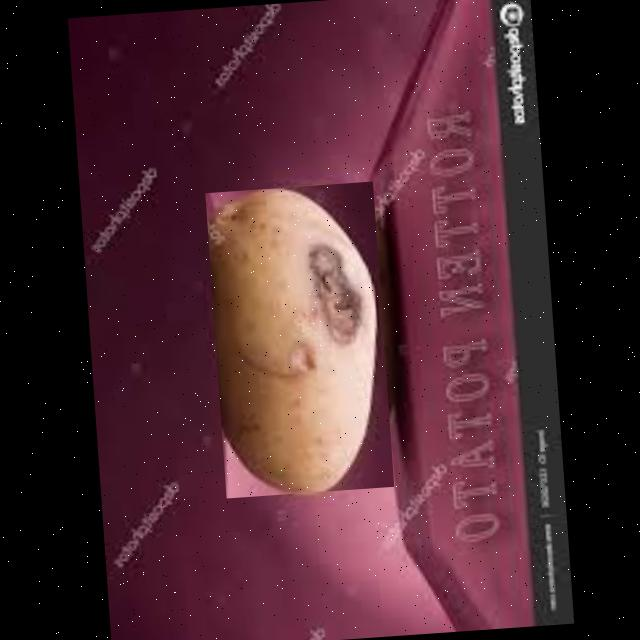Diseased-fungal potato: (204, 180, 393, 497)
